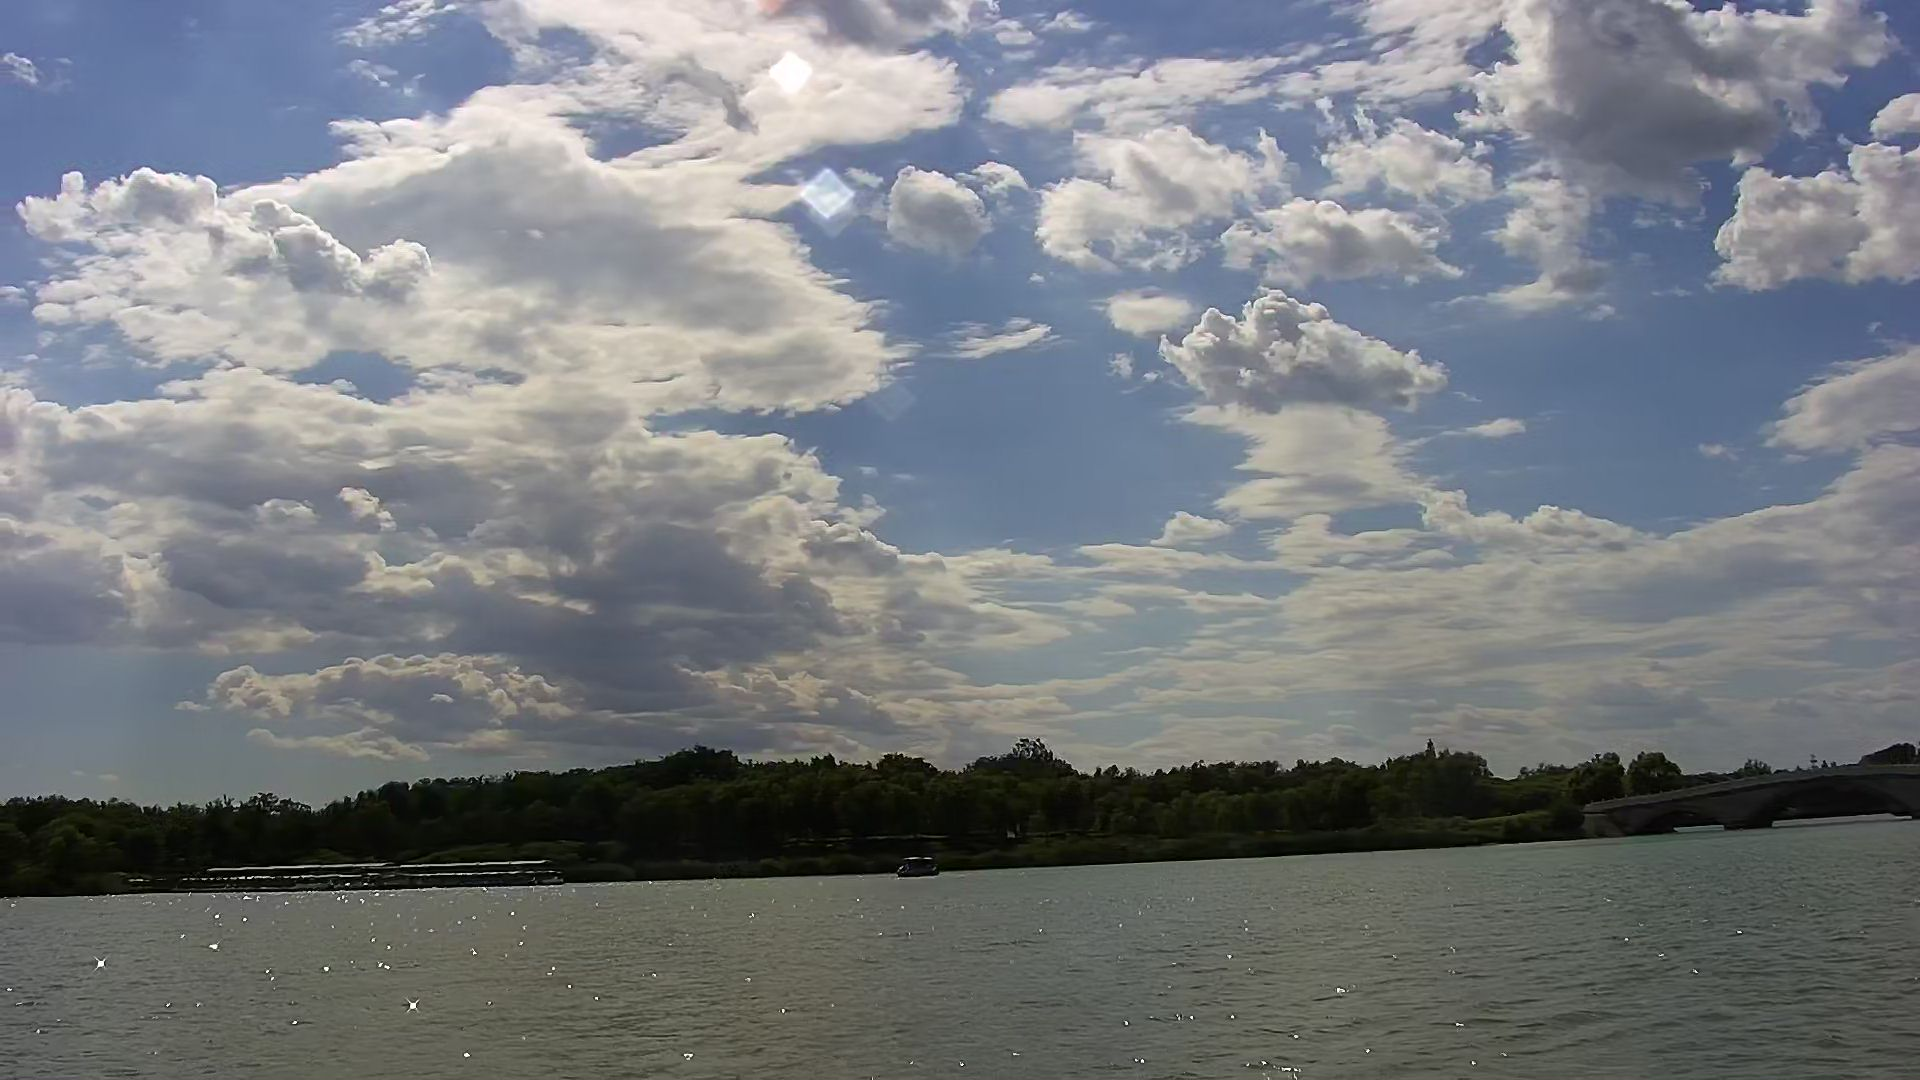boat: (893, 851, 943, 882)
bridge: (1582, 756, 1920, 829)
harbor: (204, 858, 563, 895)
